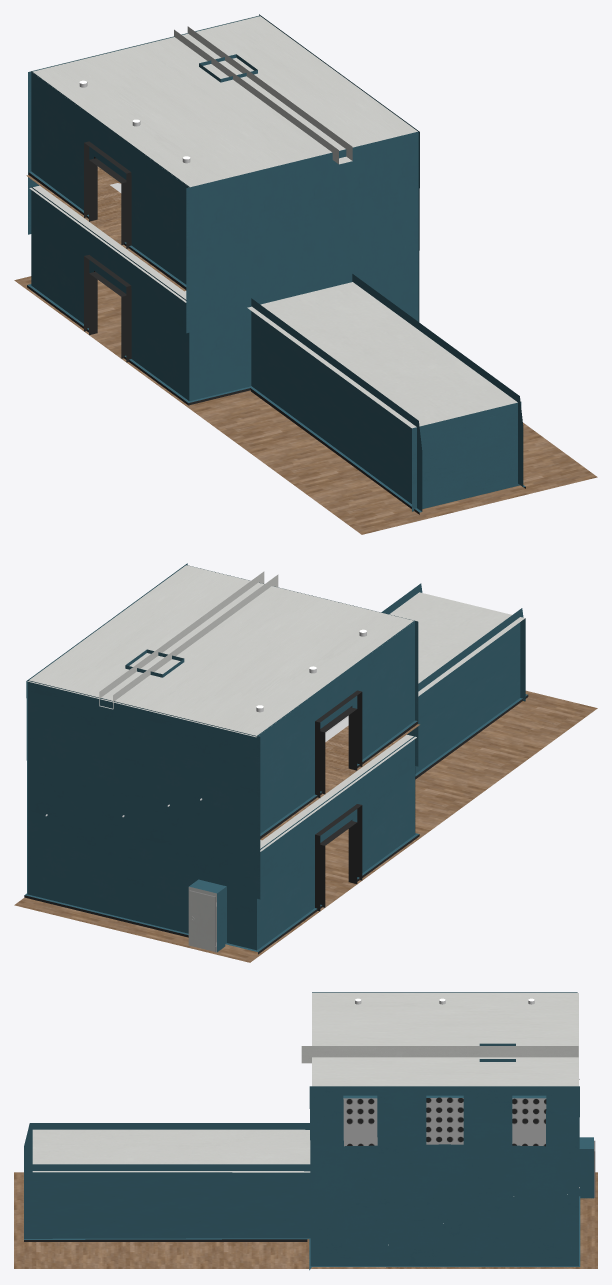
The model's file is room_stairs.glb.
The picture shows the model from 3 angles, top to bottom: view 1: azimuth 30°, elevation 25°; view 2: azimuth 150°, elevation 25°; view 3: azimuth 270°, elevation 25°; orthographic projection. The views are drawn at different scales.
Parts seen in each view (by area): view 1: Plane.011, Plane.003, Plane.002, Plane.012, Plane, Plane.010, Cube, Plane.008, Plane.005, Plane.013, Plane.001; view 2: Plane.001, Plane.003, Plane.002, Plane, Plane.010, Plane.012, Cube, Plane.008, Plane.005, Plane.013, Plane.011, Plane.004; view 3: Plane.004, Plane.010, Plane.003, Plane, Plane.012, Cube, Plane.001.
Boxes of the visible parts, <box> form: Plane.011: <box>186,131,418,405</box>; Plane.003: <box>31,15,417,187</box>; Plane.002: <box>27,71,189,404</box>; Plane.012: <box>247,282,521,511</box>; Plane: <box>14,276,597,534</box>; Plane.010: <box>250,274,525,514</box>; Cube: <box>174,26,352,164</box>; Plane.008: <box>84,141,131,248</box>; Plane.005: <box>84,255,131,362</box>; Plane.013: <box>26,168,186,291</box>; Plane.001: <box>28,15,260,285</box>; Plane.001: <box>24,680,260,952</box>; Plane.003: <box>27,565,413,737</box>; Plane.002: <box>257,620,419,954</box>; Plane: <box>14,690,597,962</box>; Plane.010: <box>381,583,528,779</box>; Plane.012: <box>389,592,525,701</box>; Cube: <box>99,571,278,709</box>; Plane.008: <box>315,690,362,797</box>; Plane.005: <box>315,804,362,911</box>; Plane.013: <box>199,716,419,840</box>; Plane.011: <box>186,565,419,835</box>; Plane.004: <box>25,563,187,895</box>; Plane.004: <box>309,1086,579,1266</box>; Plane.010: <box>24,1123,310,1241</box>; Plane.003: <box>312,993,578,1086</box>; Plane: <box>14,1172,597,1268</box>; Plane.012: <box>32,1129,310,1172</box>; Cube: <box>301,1046,578,1063</box>; Plane.001: <box>578,1137,593,1266</box>.
Bounding box in the file's own units: 13.14 × 11.54 × 32.29.
9 materials, 4 textured.
